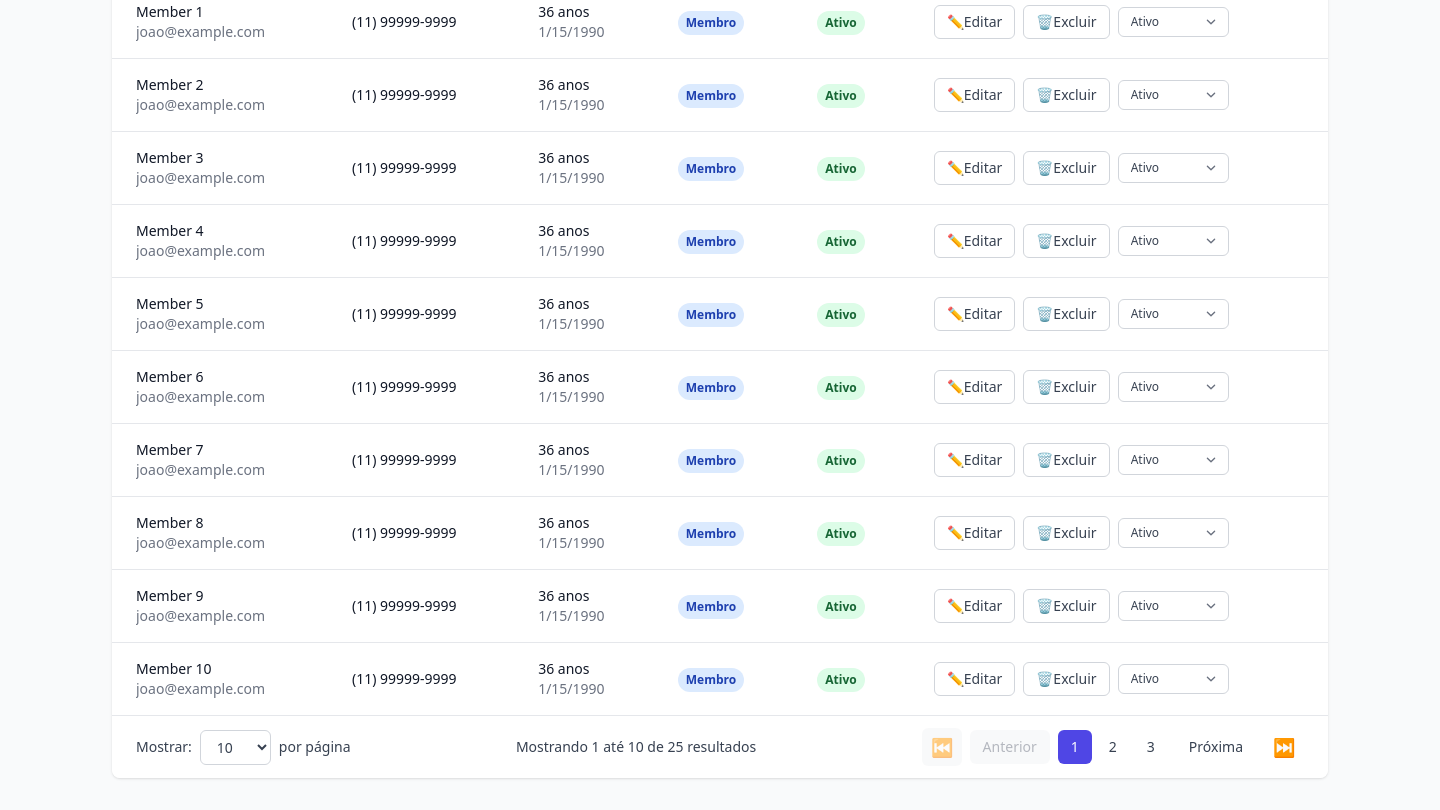
it: MembersManagementPage › Pagination › should change items per page
(page scrolled)
Expected: the text "Member 1" is shown, [136, 2, 204, 21]
Change items per page to 20
Select "20" in the dropdown labelled "Mostrar:" at coordinates (235, 747), box [200, 730, 271, 764]
(page scrolled)
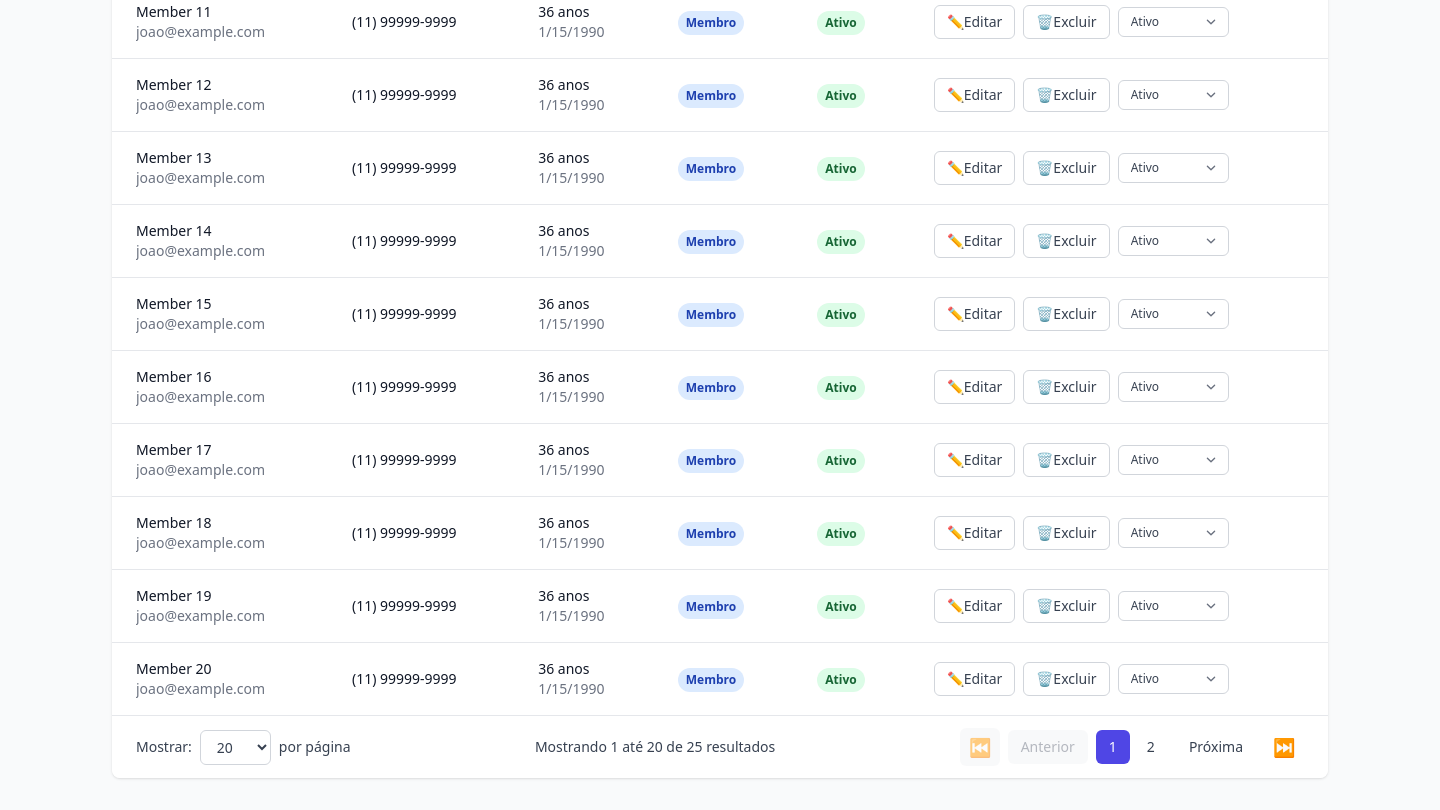
Expected: the text "Member 20" is shown, [136, 659, 212, 678]
